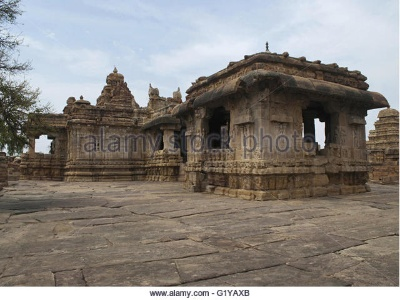mandapa: (170, 54, 380, 166)
